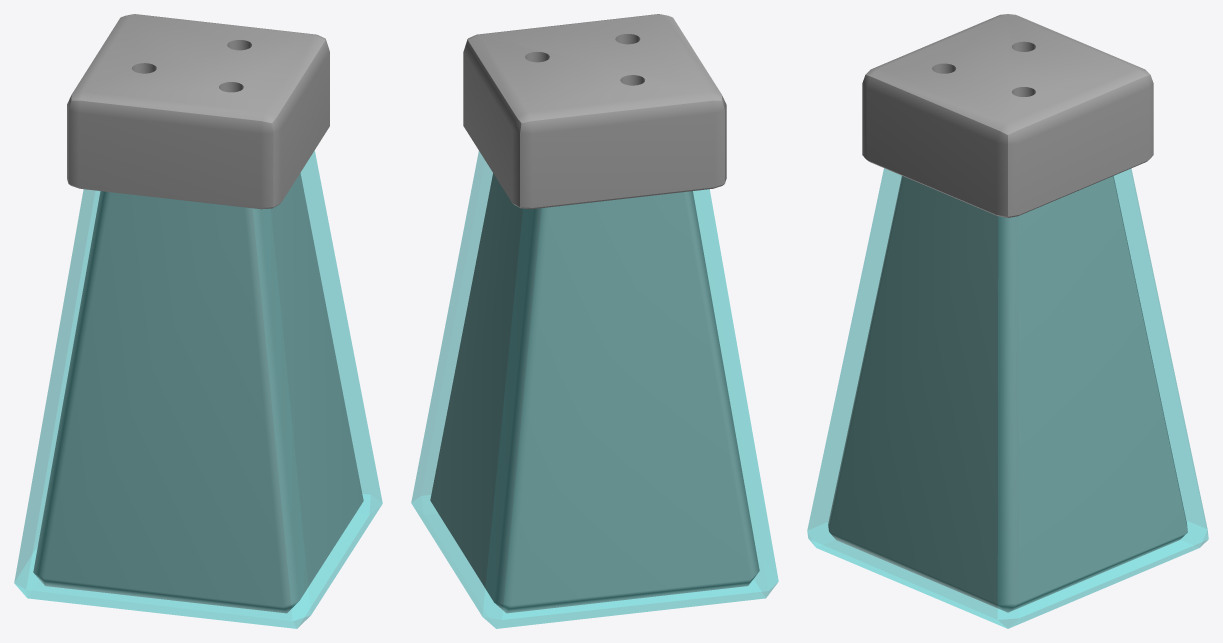
The model's file is SM_PepperShaker.fbx.
3 views of the same model, side by side, from view 1: azimuth 30°, elevation 25°; view 2: azimuth 150°, elevation 25°; view 3: azimuth 270°, elevation 25° (orthographic). The views are drawn at different scales.
Visible parts, largest first — view 1: glass, contents, Pepper; view 2: glass, contents, Pepper; view 3: glass, contents, Pepper.
Boxes of the visible parts, x1=… form: glass: x1=14, y1=151, x2=382, y2=628; contents: x1=33, y1=173, x2=363, y2=613; Pepper: x1=67, y1=14, x2=329, y2=209; glass: x1=411, y1=151, x2=778, y2=628; contents: x1=430, y1=173, x2=759, y2=613; Pepper: x1=463, y1=14, x2=726, y2=209; glass: x1=807, y1=168, x2=1208, y2=628; contents: x1=828, y1=176, x2=1187, y2=612; Pepper: x1=862, y1=14, x2=1153, y2=217.
Bounding box in the file's own units: 33.09 × 43.58 × 33.09.
